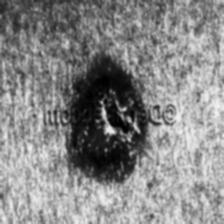Potentially Malignant Skin Tumors: (64, 126, 148, 190), (72, 68, 152, 102)
